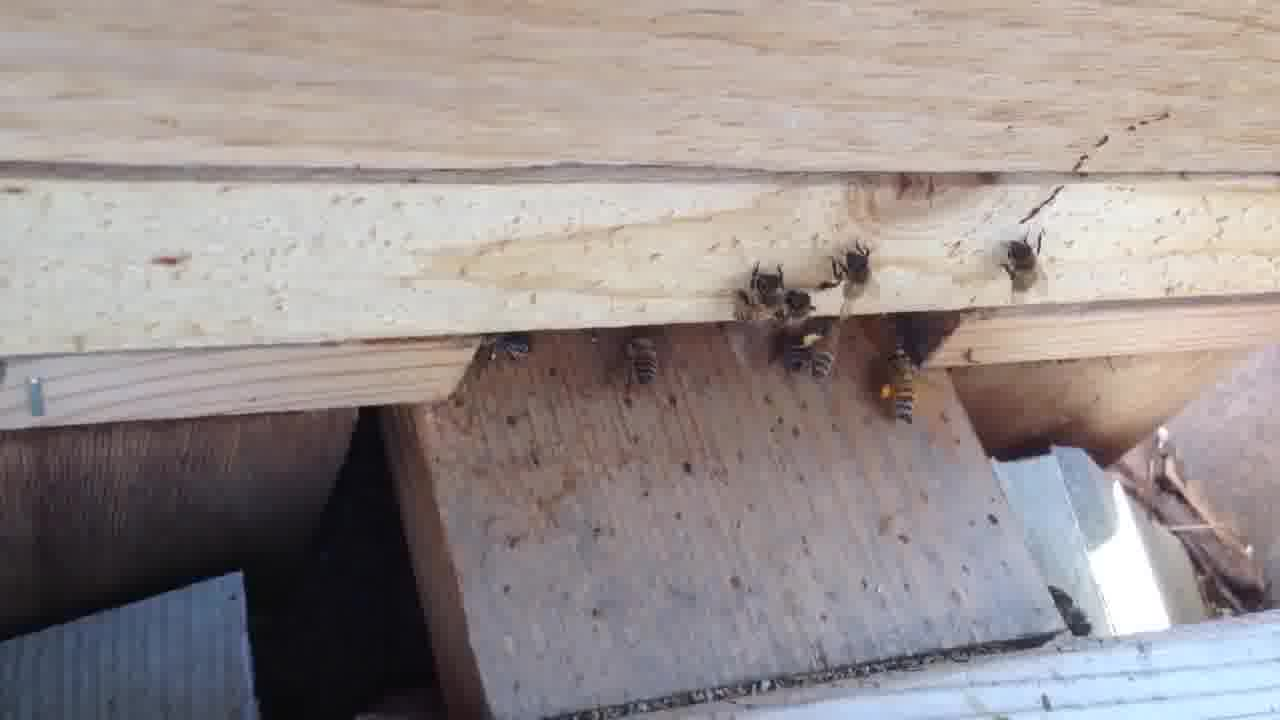pollen: (801, 318, 856, 384), (881, 349, 925, 419)
